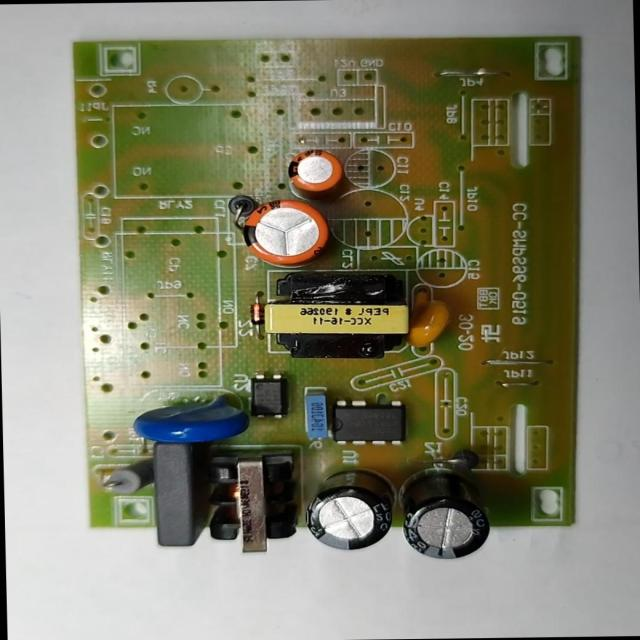Cap1: (242, 198, 332, 263)
Cap2: (283, 146, 345, 197)
Cap3: (305, 464, 395, 553)
Cap4: (398, 465, 492, 562)
MOSFET: (330, 396, 406, 448)
Mov: (130, 389, 252, 444)
Resistor: (104, 460, 156, 498)
Transformer: (261, 268, 410, 358), (201, 446, 301, 554)
